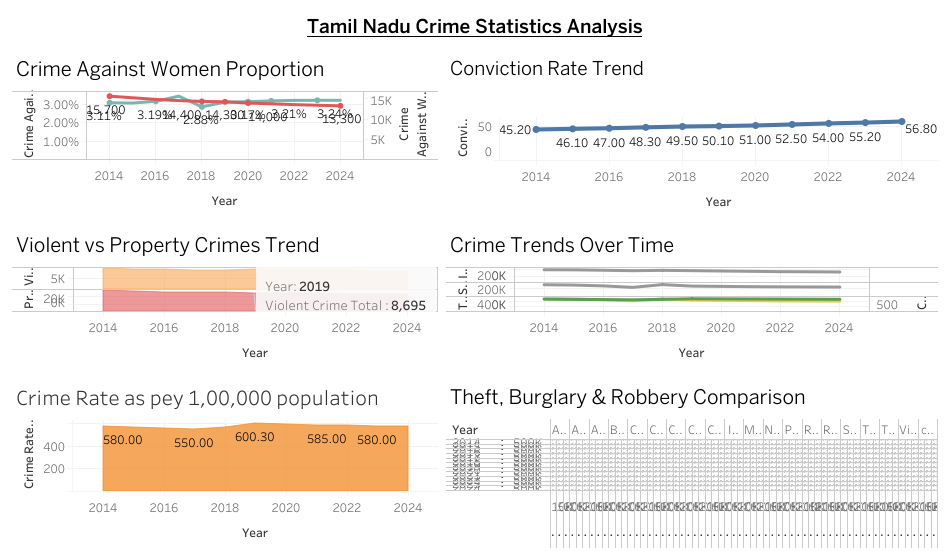

The page's visual inventory and layout, read from the dashboard file:
{"tool":"tableau","page":{"name":"Dashboard 1","canvas":[1000,1000],"units":"permille","ordinal":0},"visuals":[{"type":"text","box":[8.4,14.3,983.2,66.1]},{"type":"worksheet","title":"Crime Against Women Proportion","mark":"Automatic","rows":["Calculation_754915912170897408","Crime_Against_Women"],"cols":["Year"],"box":[8.4,80.4,456.8,314.7]},{"type":"worksheet","title":"Conviction Rate Trend","mark":"Automatic","rows":["Conviction_Rate"],"cols":["Year"],"box":[465.2,80.4,526.3,314.3]},{"type":"worksheet","title":"Crime Trends Over Time","mark":"Automatic","rows":["IPC_Cases","SLL_Cases","Total_Crime_Cases","Crime_Rate_per_100k"],"cols":["Year"],"box":[465.2,394.6,526.3,271.4]},{"type":"worksheet","title":"Violent vs  Property Crimes Trend:","mark":"Area","rows":["Calculation_754915912172011521","Calculation_754915912172646402"],"cols":["Year"],"box":[8.4,395,456.8,271]},{"type":"worksheet","title":"Crime Rate as pey 1,00,000 population","mark":"Area","rows":["Crime_Rate_per_100k"],"cols":["Year"],"box":[8.4,666.1,456.8,319.6]},{"type":"worksheet","title":"Theft, Burglary & Robbery Comparison","mark":"Automatic","rows":["Year"],"cols":["Burglary","Robbery","Theft"],"box":[465.2,666.1,526.3,319.6]}]}

Visuals, with their boxes on the dashboard's canvas, which has no fixed pixel size, in thousandths of its width and height (x1, y1, x2, y2). These are canvas units, not pixel positions in the 949x559 screenshot, which may show the page scaled, cropped or inside an application window:
text: <region>8, 14, 992, 80</region>
"Crime Against Women Proportion" worksheet: <region>8, 80, 465, 395</region>
"Conviction Rate Trend" worksheet: <region>465, 80, 992, 395</region>
"Crime Trends Over Time" worksheet: <region>465, 395, 992, 666</region>
"Violent vs  Property Crimes Trend:" worksheet (Area marks): <region>8, 395, 465, 666</region>
"Crime Rate as pey 1,00,000 population" worksheet (Area marks): <region>8, 666, 465, 986</region>
"Theft, Burglary & Robbery Comparison" worksheet: <region>465, 666, 992, 986</region>
